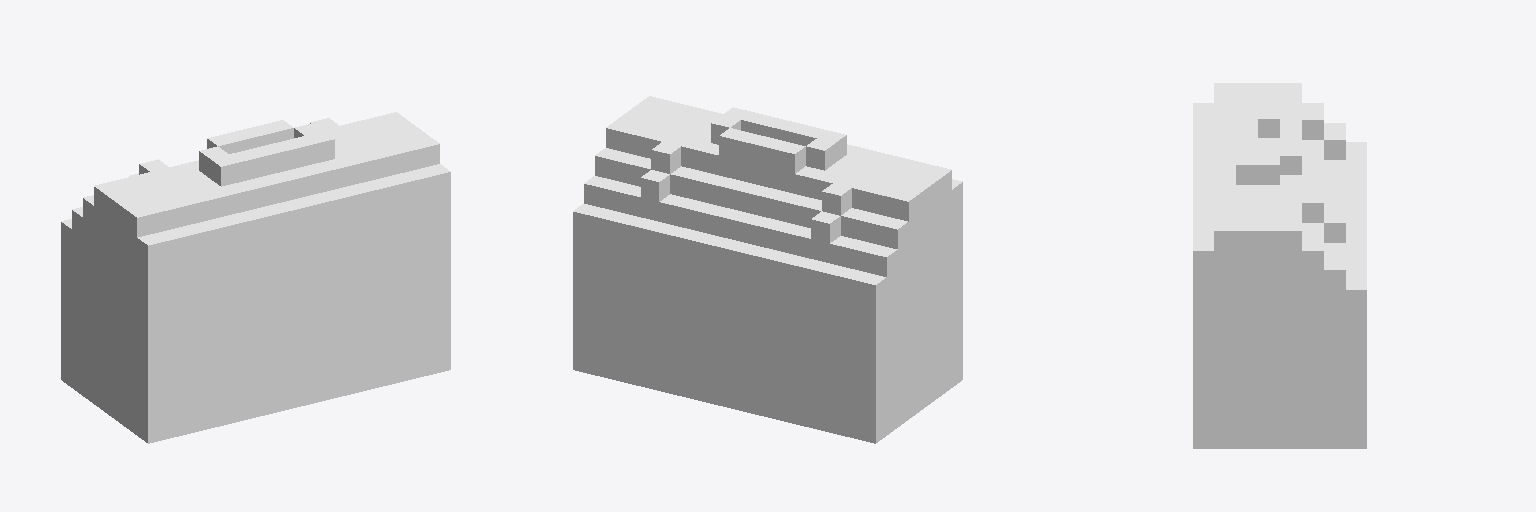
The model's file is ToolBox.obj.
3 views of the same model, side by side, from view 1: azimuth 30°, elevation 25°; view 2: azimuth 150°, elevation 25°; view 3: azimuth 270°, elevation 25° (orthographic).
Parts seen in each view (by area): view 1: CupboardBigDoor; view 2: CupboardBigDoor; view 3: CupboardBigDoor.
Boxes of the visible parts, box(x1,y1,x2,y2) form: CupboardBigDoor: box(61, 112, 450, 443); CupboardBigDoor: box(573, 96, 962, 443); CupboardBigDoor: box(1193, 83, 1366, 448).
Size of the model in its own units: 1.6 by 1.2 by 0.8.